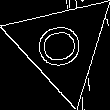O_E: (33, 18, 92, 73)
